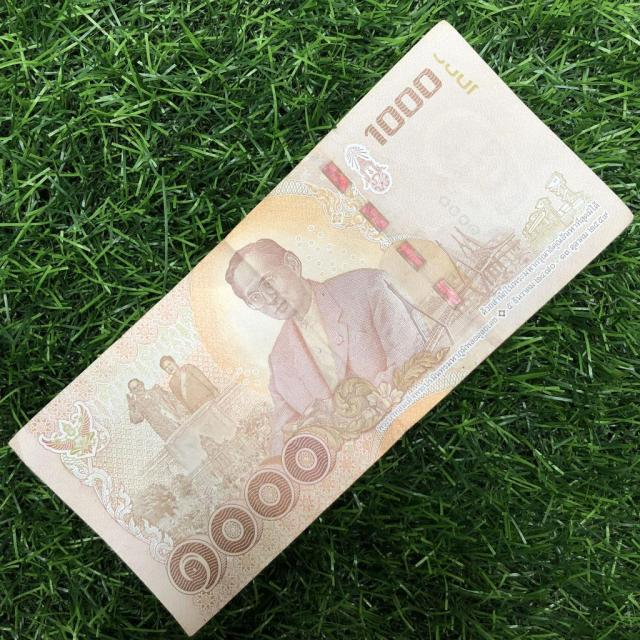THAI1000: (10, 22, 632, 633)
